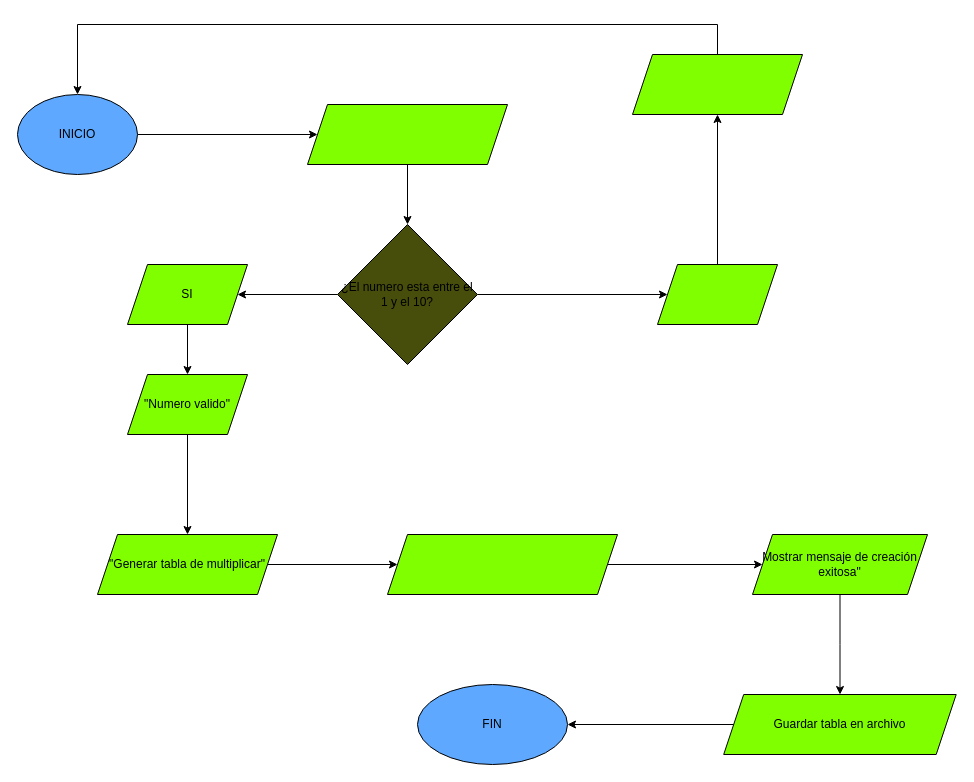
Image size: 974x782. Some labels were removed from this diagram. The centre of each missing label's shape, as x and y in pixels:
"Guardar tabla en archivo de texto": point (502, 564)
"Mostrar mensaje de error": point (717, 84)
"Solicitar numero entre 1 y 10": point (407, 134)
NO: point (717, 294)
